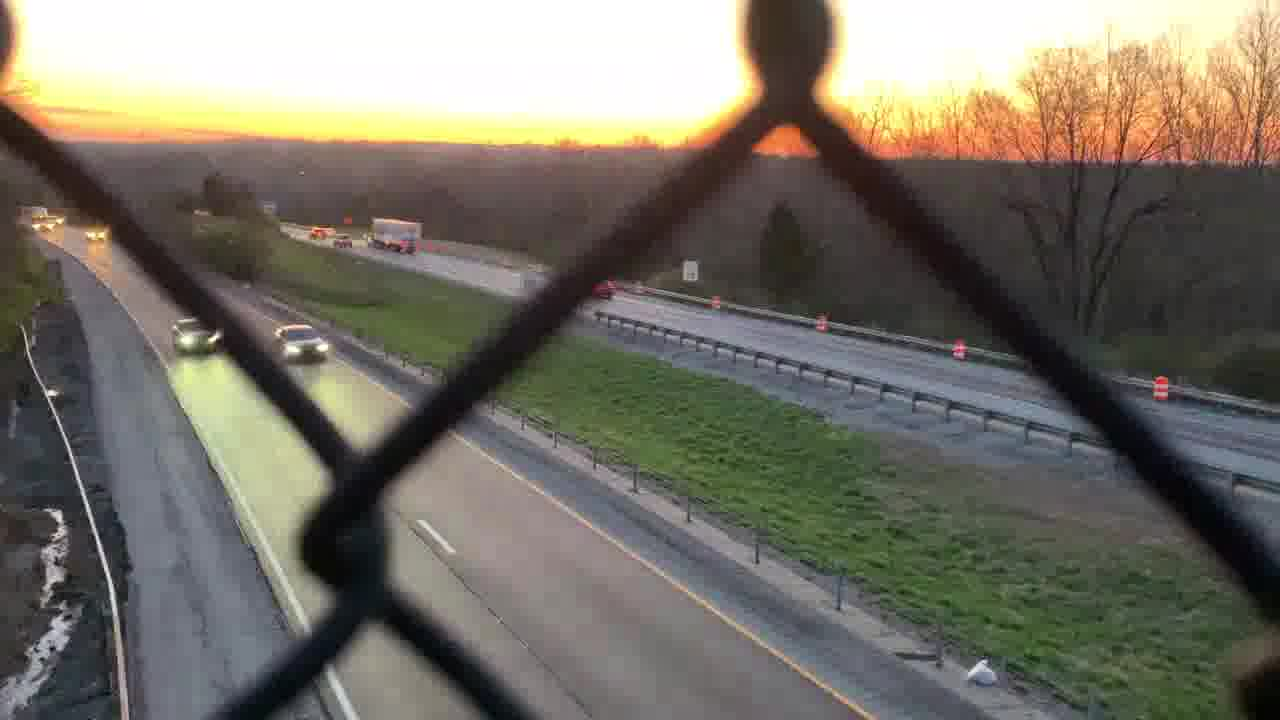heavyTruck: (366, 218, 423, 250)
smallCar: (272, 324, 336, 364)
